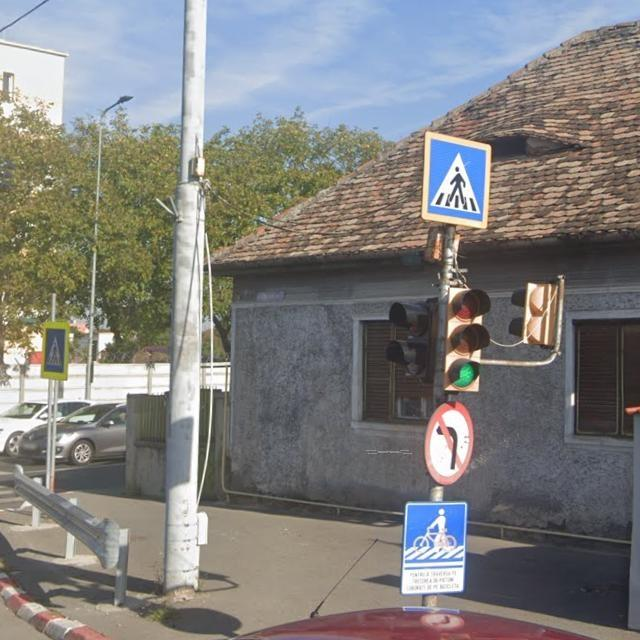info_crosswalk: (423, 132, 492, 233), (42, 324, 70, 381)
